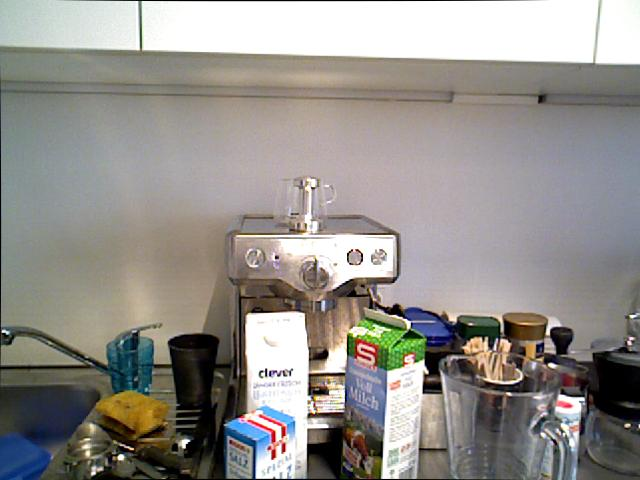bench: (350, 307, 420, 480), (244, 310, 307, 480)
couch: (0, 381, 101, 478)
handbag: (439, 358, 556, 480), (167, 333, 219, 408), (270, 174, 338, 229), (106, 335, 154, 396)
